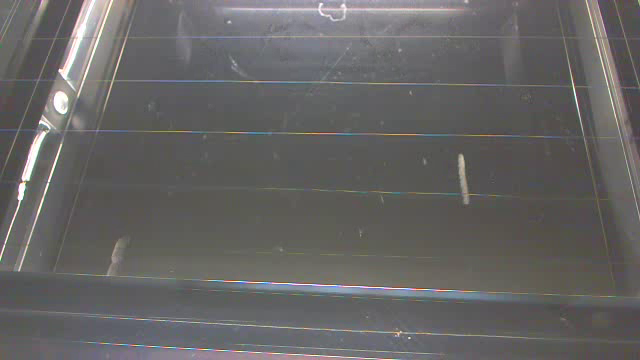Alfa: (101, 231, 127, 278), (454, 150, 470, 208)
